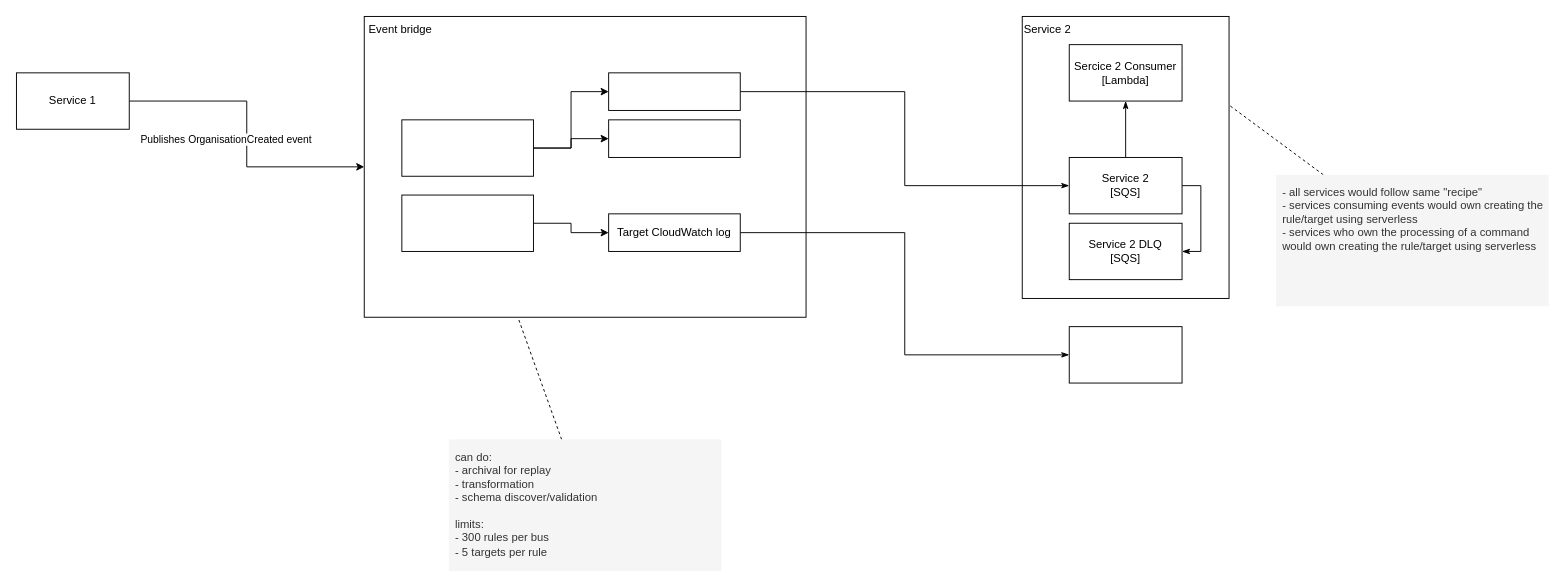
The diagram is 1565 pixels wide and 588 high, and some of its shapes have lost their labels. Each missing label, with the centre of its shape:
Audit [CloudWatch LogGroup]: point 1125,354
Rule Pattern match "*": point 467,222
Rule Pattern match "OrganisationCreated": point 467,147
Target Service (n) SQS: point 674,138
Target Service 2 SQS: point 674,91
